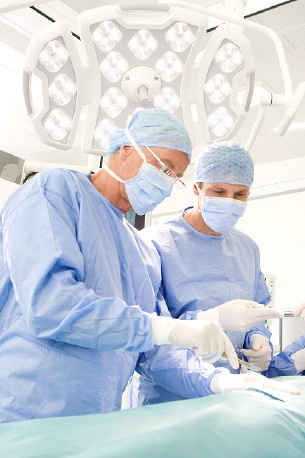Mask: (115, 149, 184, 219)
